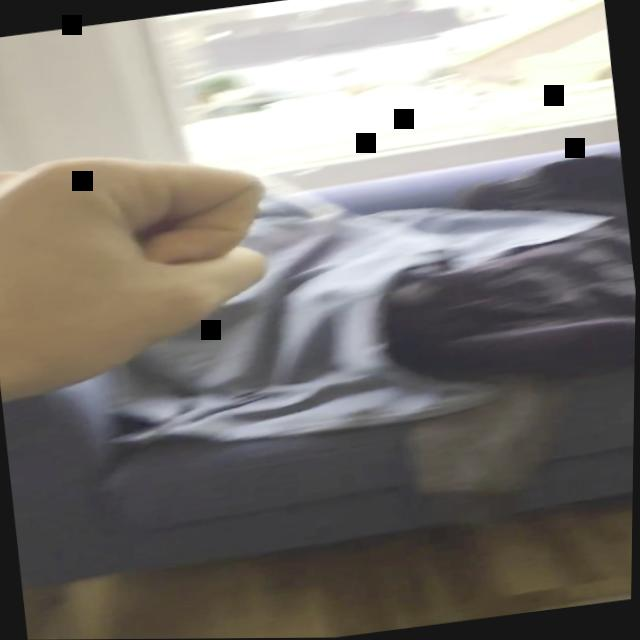Rock: (0, 130, 300, 402)
